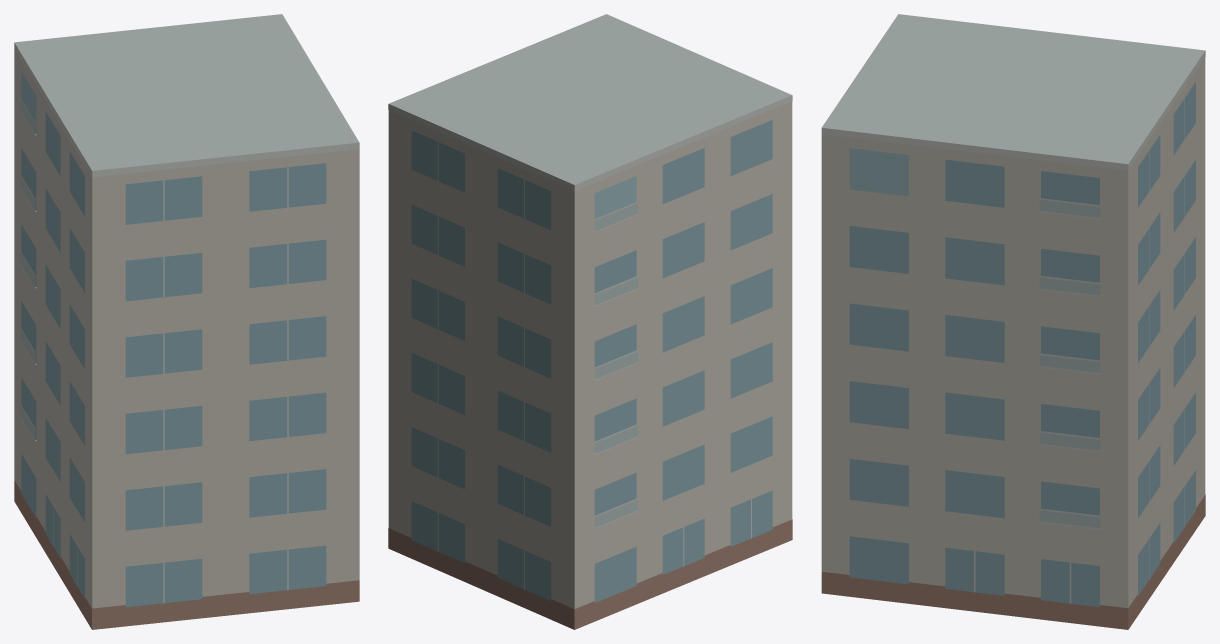
Rendered from survey-upis-32876999.glb.
3 views of the same model, side by side, from view 1: azimuth 30°, elevation 25°; view 2: azimuth 150°, elevation 25°; view 3: azimuth 270°, elevation 25° (orthographic). The views are drawn at different scales.
Parts seen in each view (by area): view 1: survey-upis-32876999.tmp; view 2: survey-upis-32876999.tmp; view 3: survey-upis-32876999.tmp.
Part boxes in pixels (box(x1,y1,x2,y2)): survey-upis-32876999.tmp: box(14, 14, 359, 629); survey-upis-32876999.tmp: box(388, 14, 792, 629); survey-upis-32876999.tmp: box(821, 14, 1205, 629).
Bounding box in the file's own units: 12.12 × 17.5 × 13.08.
